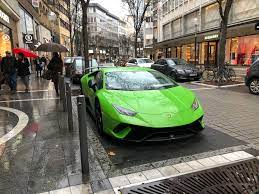Lamborghini: (79, 67, 204, 140)
